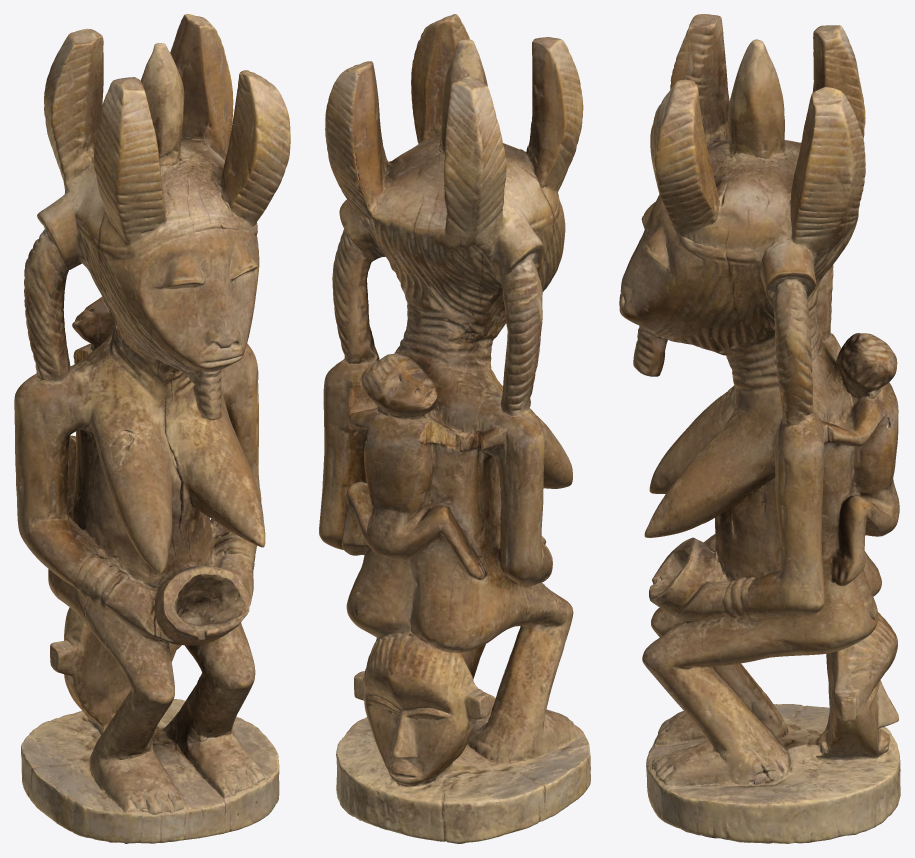
File: preview.glb
3 views of the same model, side by side, from view 1: azimuth 30°, elevation 25°; view 2: azimuth 150°, elevation 25°; view 3: azimuth 270°, elevation 25° (orthographic).
Visible parts, largest first — view 1: Object_2; view 2: Object_2; view 3: Object_2.
Boxes of the visible parts, bbox=[...] form: Object_2: bbox=[14, 14, 290, 843]; Object_2: bbox=[319, 14, 590, 843]; Object_2: bbox=[619, 14, 900, 843].
Bounding box in the file's own units: 0.2737 × 0.8572 × 0.2889.
Materials: 1 (1 with a texture image).
